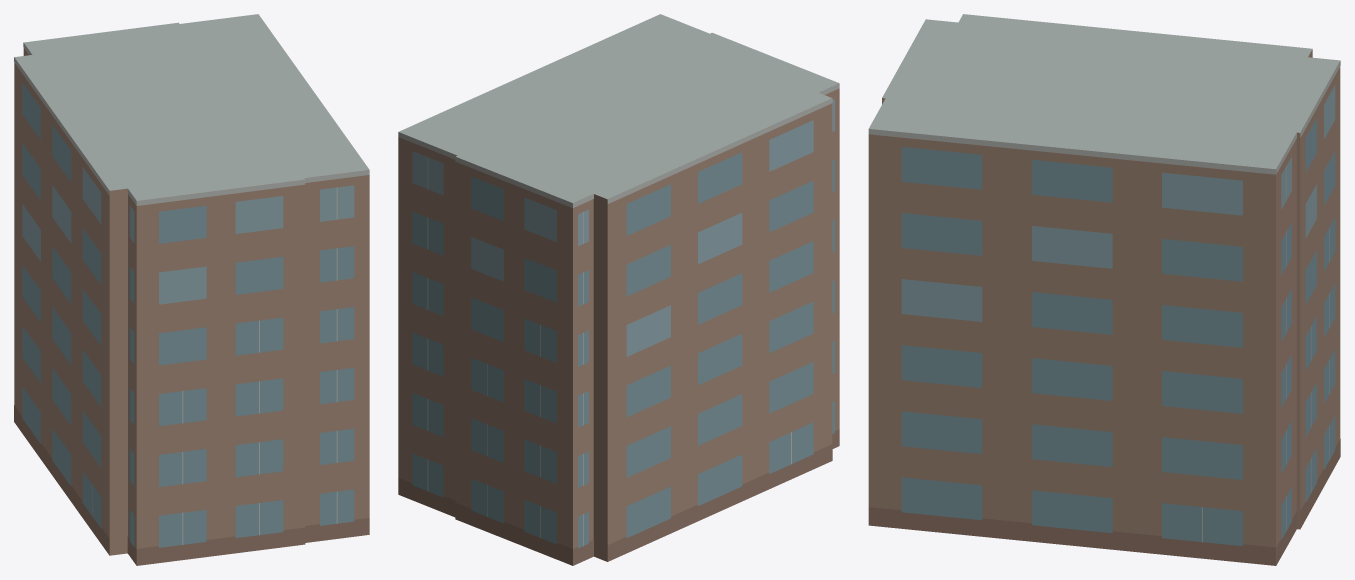
The model's file is survey-upis-32535432.glb.
3 renders of one model, left to right at view 1: azimuth 30°, elevation 25°; view 2: azimuth 150°, elevation 25°; view 3: azimuth 270°, elevation 25°, orthographic. The views are drawn at different scales.
Visible parts, largest first — view 1: survey-upis-32535432.tmp; view 2: survey-upis-32535432.tmp; view 3: survey-upis-32535432.tmp.
Part boxes in pixels (box(x1,y1,x2,y2)): survey-upis-32535432.tmp: box(14, 14, 369, 565); survey-upis-32535432.tmp: box(398, 14, 839, 565); survey-upis-32535432.tmp: box(868, 14, 1340, 565).
Size of the model in its own units: 14.83 by 17.65 by 19.04.
